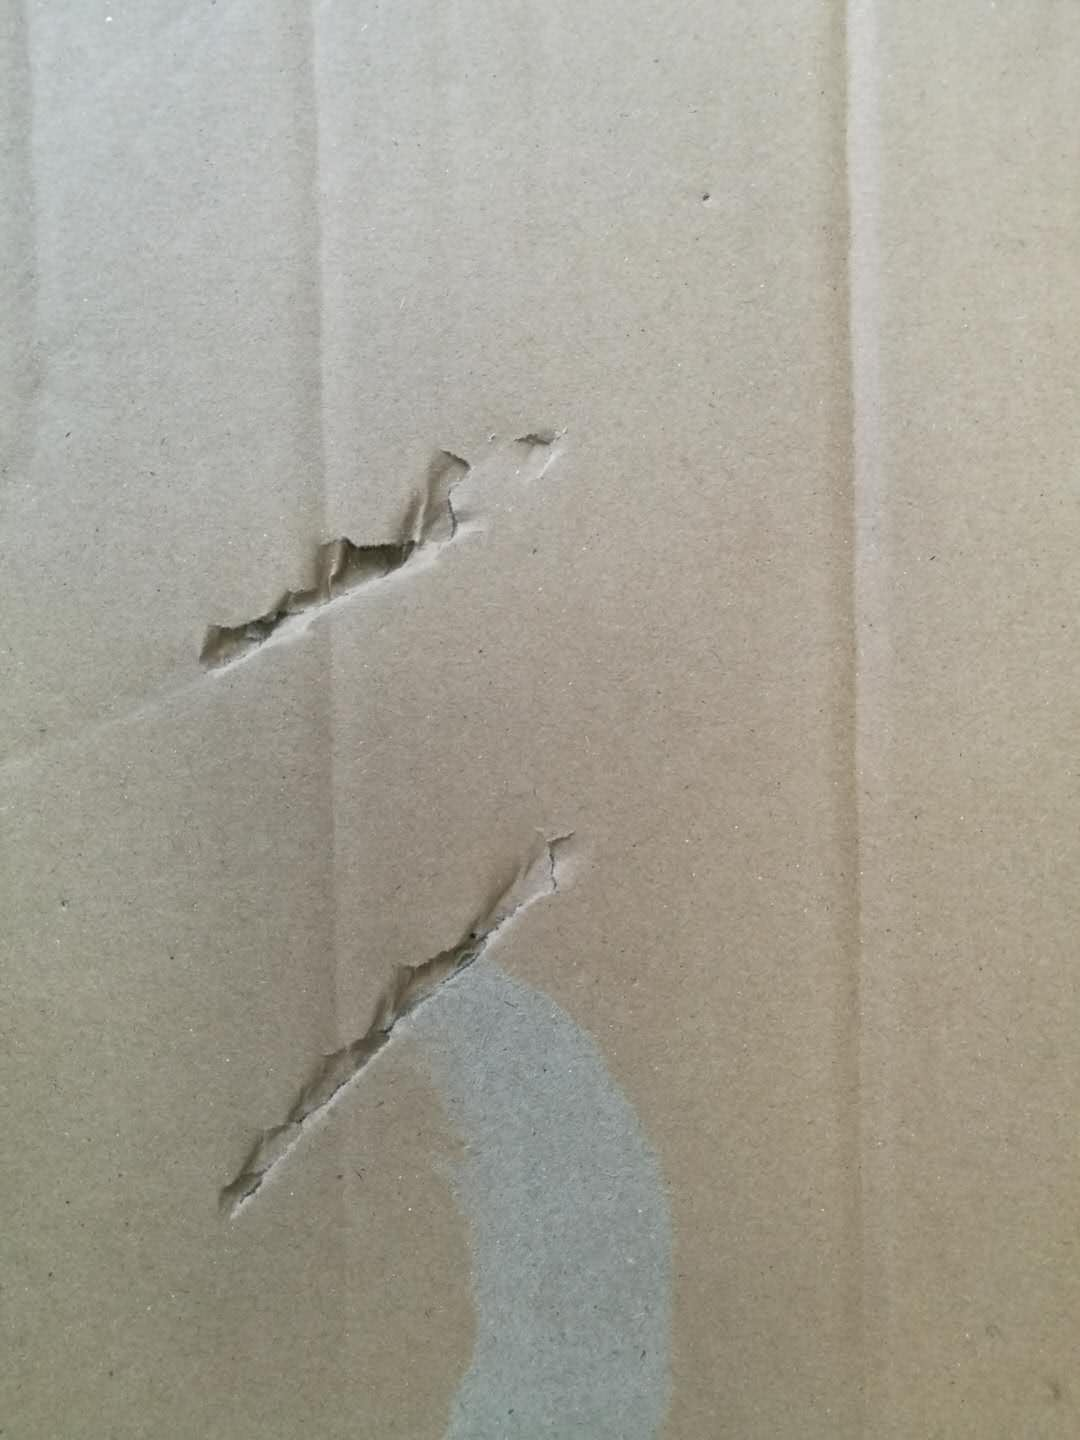defect: (197, 804, 729, 1440), (241, 5, 452, 1350), (768, 2, 959, 1440), (3, 395, 602, 765), (3, 2, 82, 513)
